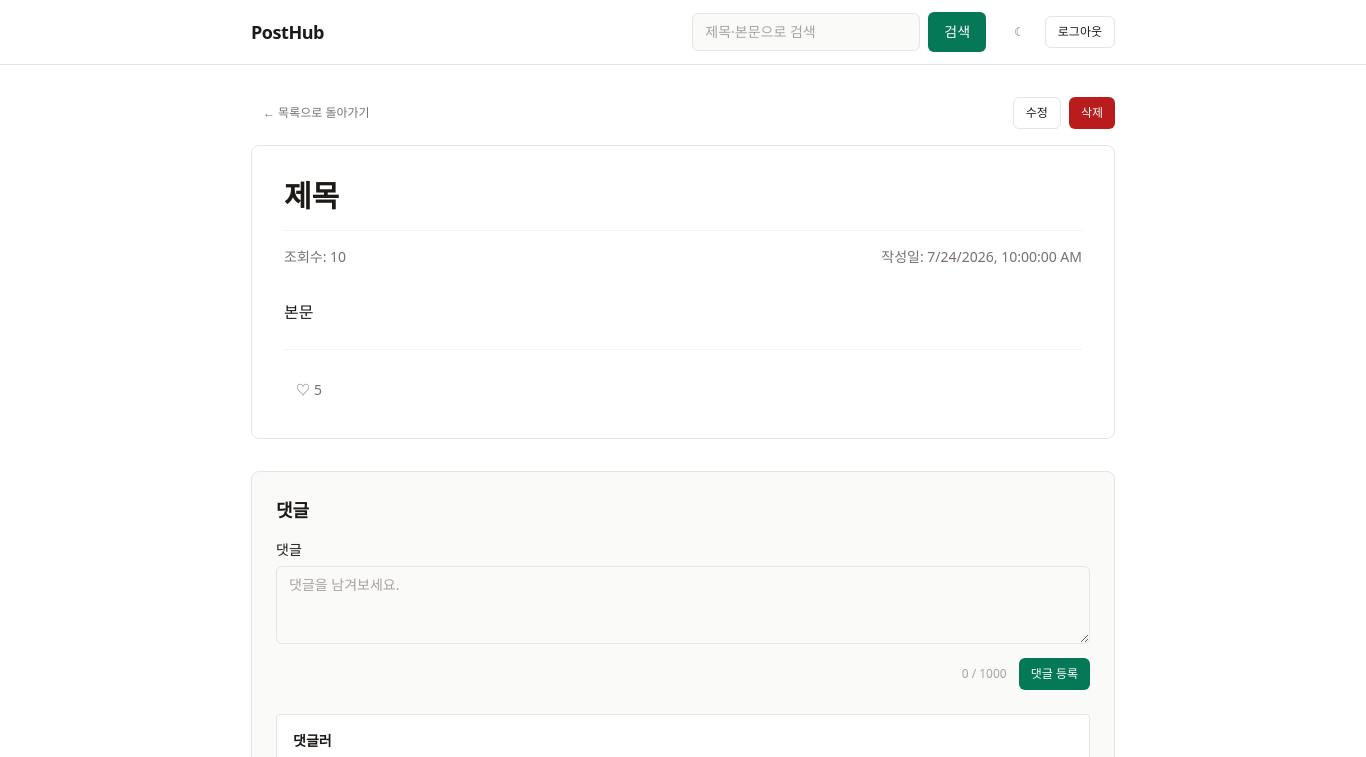
Test: PostDetailPage 삭제 확인과 댓글 검증 › 취소하면 삭제 요청이 나가지 않는다
Click the button "삭제" at {"x": 1092, "y": 113}, box [1069,97,1115,129]
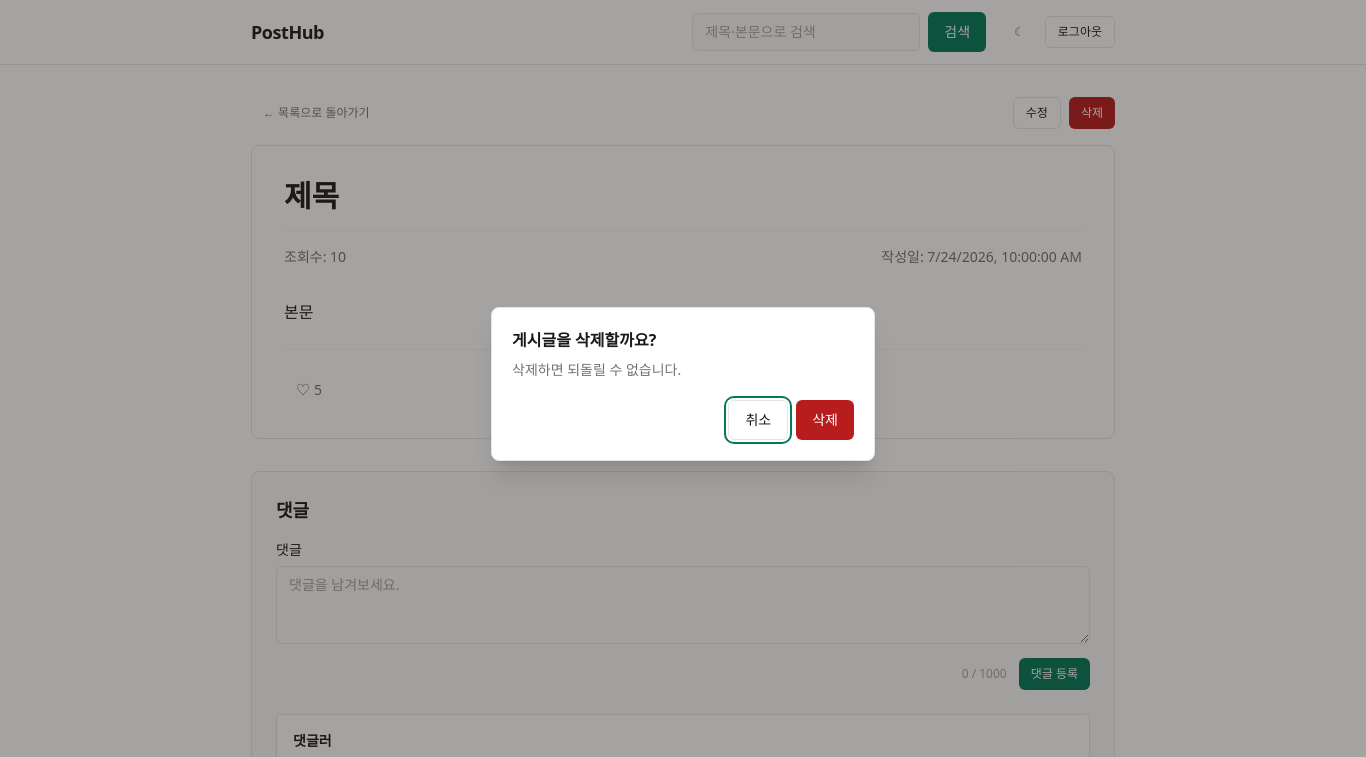
Click the button "취소" at {"x": 758, "y": 420}, box [728,400,788,440]
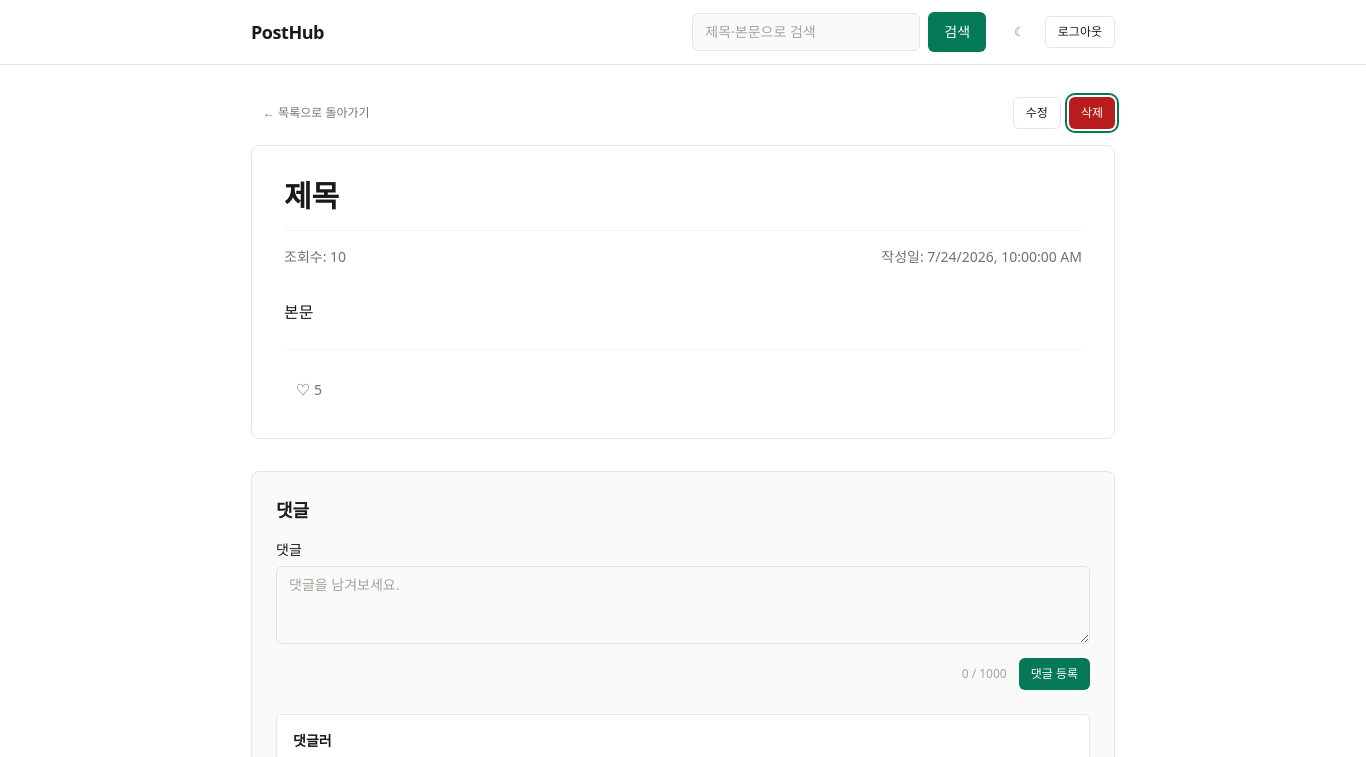
Expected: the dialog is gone
